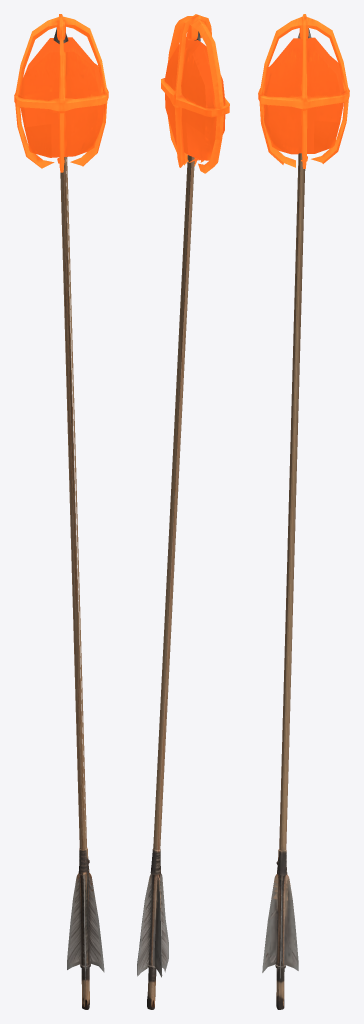
File: weapon-arrow-fire-v001.glb
3 renders of one model, left to right at view 1: azimuth 90°, elevation 25°; view 2: azimuth 210°, elevation 25°; view 3: azimuth 270°, elevation 25°, orthographic. The views are drawn at different scales.
Visible parts, largest first — view 1: arrow-fire-tip, arrow-fire-body; view 2: arrow-fire-body, arrow-fire-tip; view 3: arrow-fire-tip, arrow-fire-body.
Boxes of the visible parts, x1,y1,x2,y2 form: arrow-fire-tip: (14, 14, 108, 172); arrow-fire-body: (53, 28, 104, 1009); arrow-fire-body: (137, 31, 200, 1009); arrow-fire-tip: (161, 14, 229, 173); arrow-fire-tip: (258, 14, 349, 168); arrow-fire-body: (262, 28, 311, 1009).
Size of the model in its own units: 0.0674 by 0.942 by 0.08.
2 materials, 2 textured.
